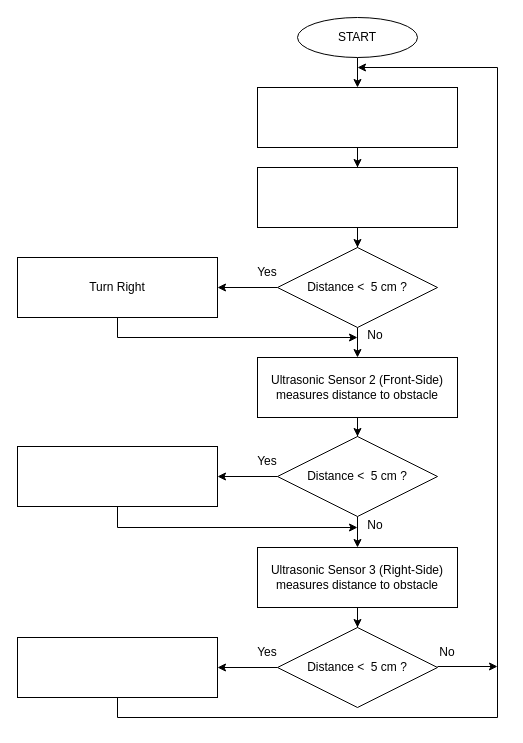
Some shapes in this 523 by 743 pixel diagram are drawn without their labels. Here are the shapes that lost their labels. From the top down, the box of each, then its label:
(256, 86, 458, 148): Move Forward
(256, 166, 458, 228): Ultrasonic Sensor 1 (Left-Side) measures distance to obstacle
(16, 446, 218, 506): Change Direction
(16, 636, 218, 698): Turn Left
